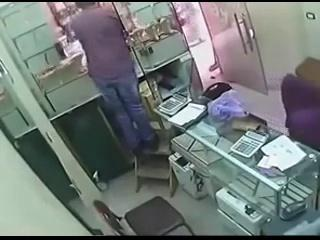Normal: (69, 3, 159, 155)
